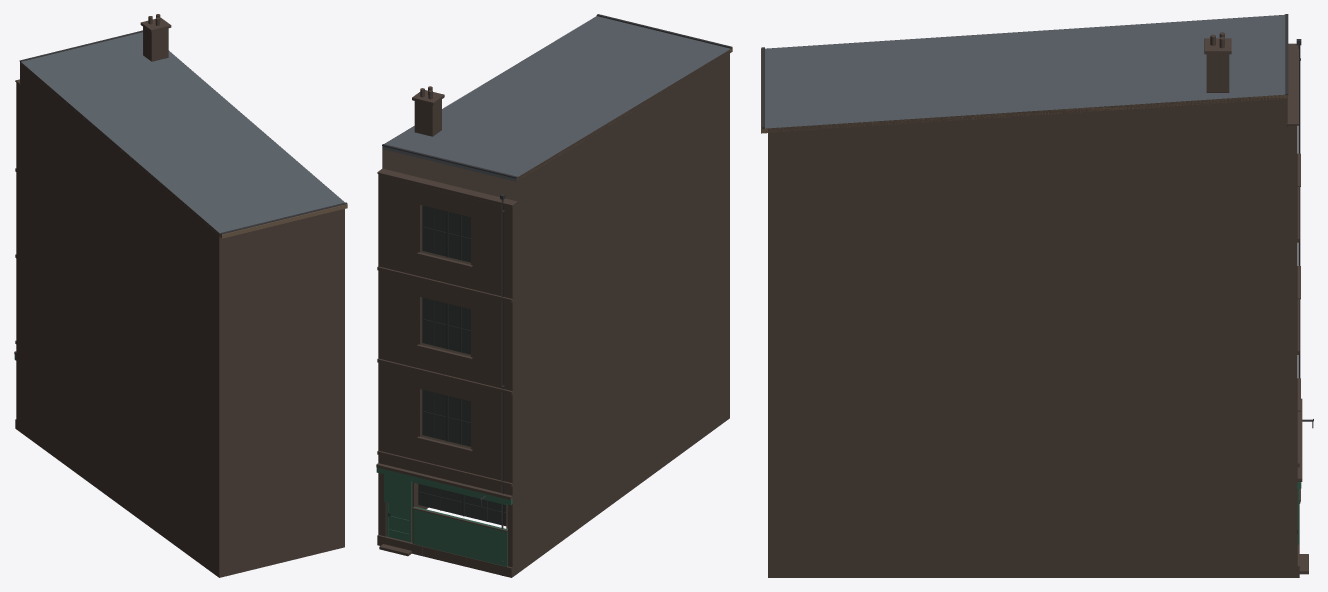
The model's file is terrace0-4.glb.
3 views of the same model, side by side, from view 1: azimuth 30°, elevation 25°; view 2: azimuth 150°, elevation 25°; view 3: azimuth 270°, elevation 25° (orthographic). The views are drawn at different scales.
Parts seen in each view (by area): view 1: terrace0-4; view 2: terrace0-4; view 3: terrace0-4.
Part boxes in pixels (left/top/right/bottom): terrace0-4: left=14, top=14, right=347, bottom=577; terrace0-4: left=376, top=14, right=732, bottom=577; terrace0-4: left=761, top=14, right=1313, bottom=577.
Bounding box in the file's own units: 5.03 × 15.51 × 14.61.
